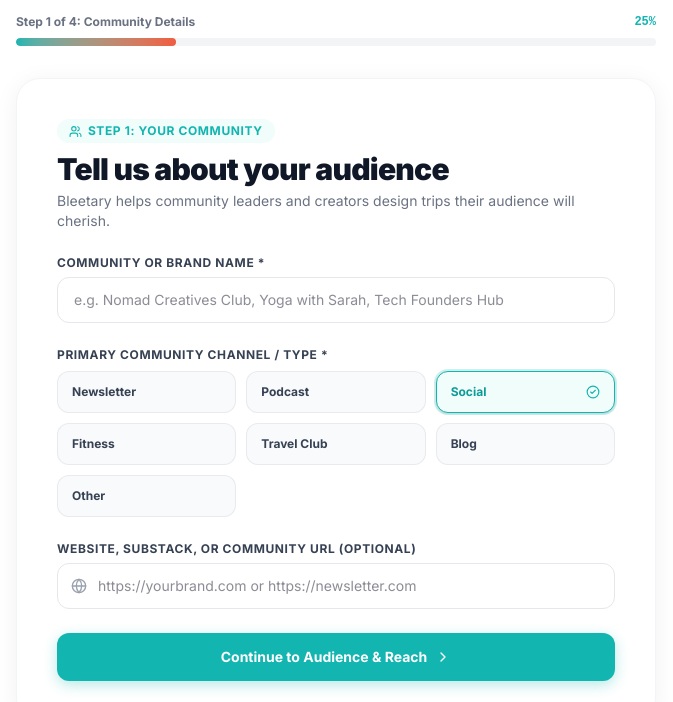
Scenario: HostApplicationWizard › renders step 1 and navigates to step 2 after valid input
Expected: the heading "Tell us about your audience" is shown, x1=57 y1=151 x2=449 y2=187
Type "Nomad Creatives" into the field labelled "Community or Brand Name *". click: (336, 300)
box: x1=57 y1=277 x2=615 y2=323
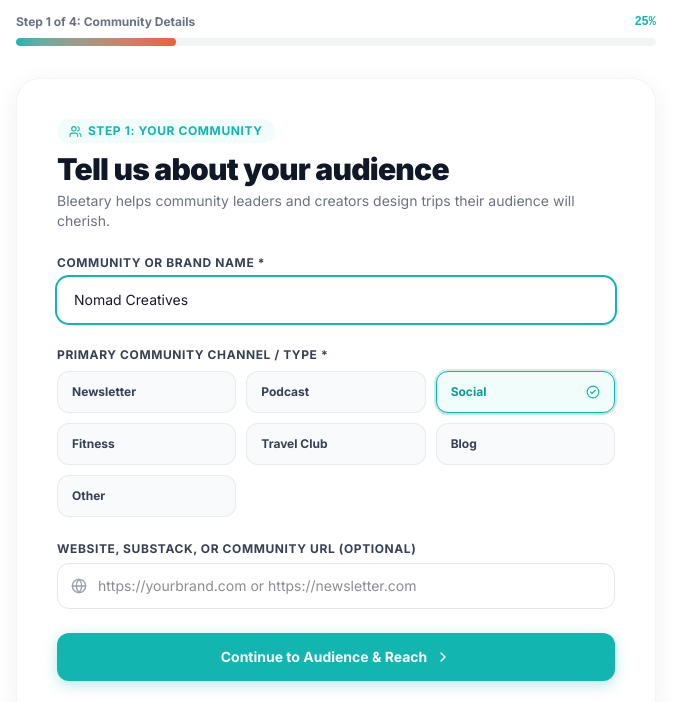
Click the button "Continue to Audience & Reach". click: (336, 657)
box: x1=57 y1=633 x2=615 y2=681
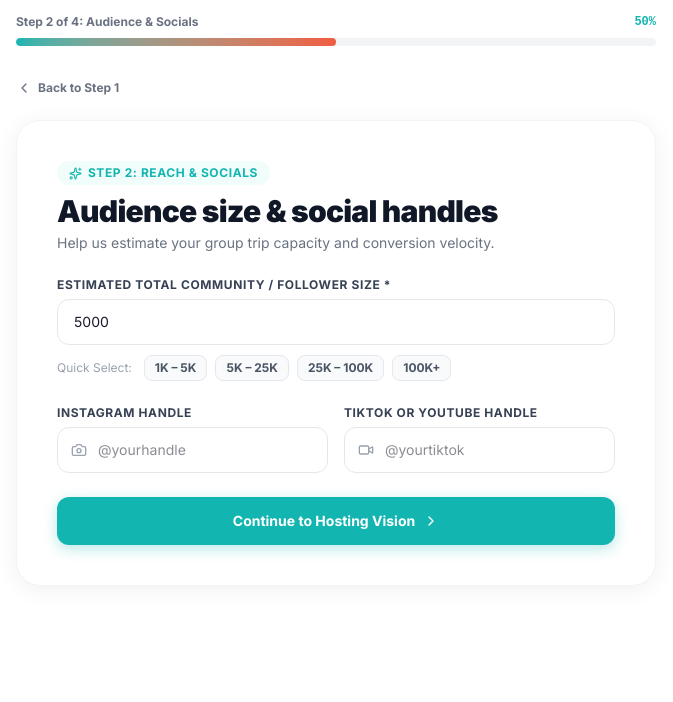
Expected: the heading "Audience size & social handles" is shown, x1=57 y1=193 x2=498 y2=229
